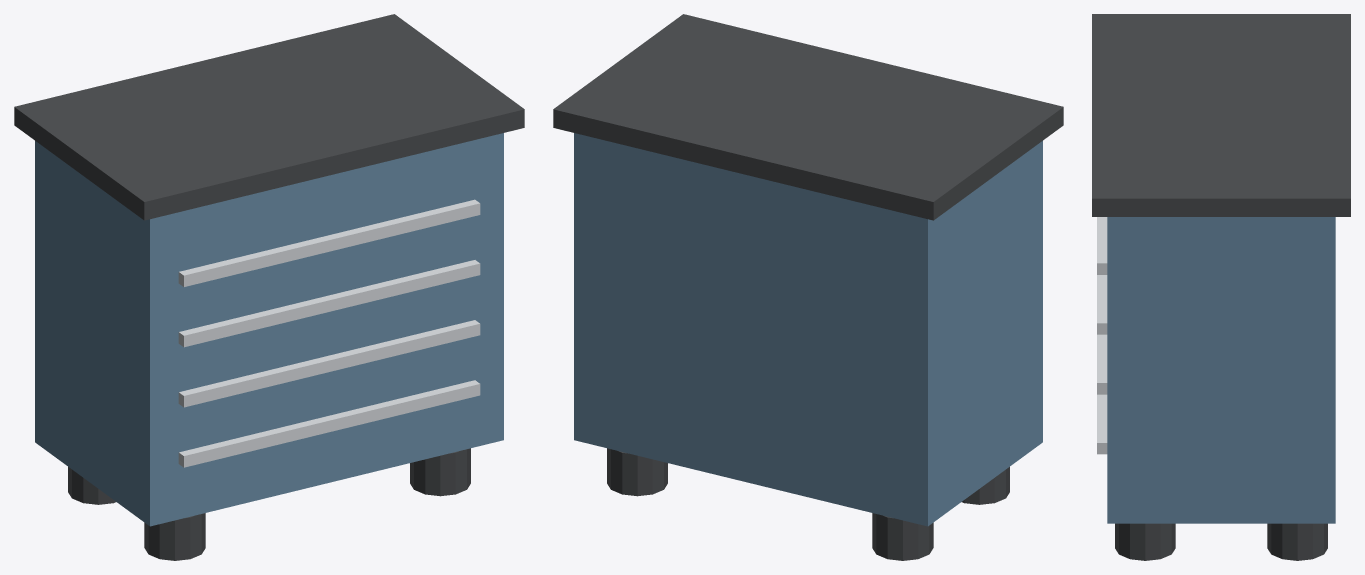
File: motorcycle-racing-and-street-bikes-tool-trolley-69ef666c__15445.glb
3 views of the same model, side by side, from view 1: azimuth 30°, elevation 25°; view 2: azimuth 150°, elevation 25°; view 3: azimuth 270°, elevation 25° (orthographic).
Visible parts, largest first — view 1: tool-trolley; view 2: tool-trolley; view 3: tool-trolley.
Boxes of the visible parts, x1,y1,x2,y2 form: tool-trolley: (14, 14, 524, 560); tool-trolley: (553, 14, 1063, 560); tool-trolley: (1092, 14, 1350, 560).
Size of the model in its own units: 0.86 by 0.82 by 0.51.
